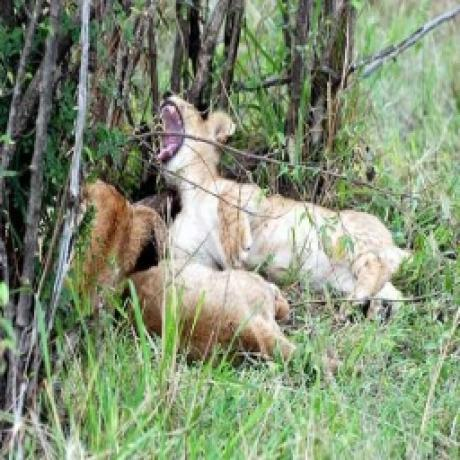Lion: (152, 87, 409, 324), (127, 262, 301, 368)
